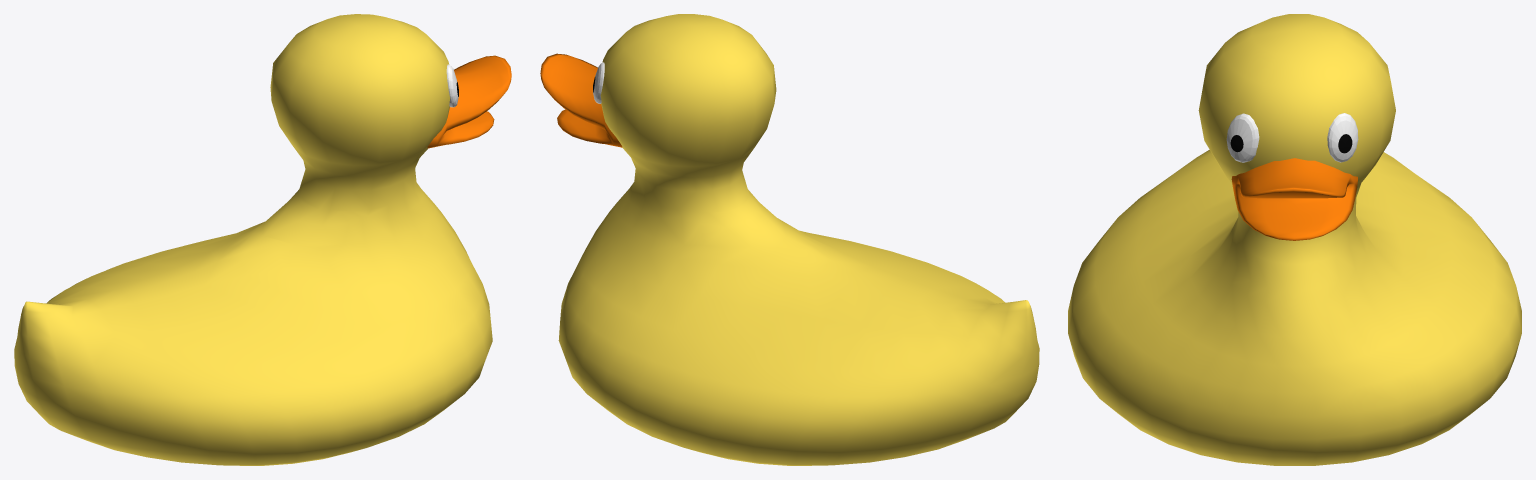
File: duck.fbx
3 views of the same model, side by side, from view 1: azimuth 30°, elevation 25°; view 2: azimuth 150°, elevation 25°; view 3: azimuth 270°, elevation 25° (orthographic). The views are drawn at different scales.
Visible parts, largest first — view 1: RubberDuck, Beak; view 2: RubberDuck, Beak; view 3: RubberDuck, Beak, LeftEye.001, LeftEye.
Part boxes in pixels (x1,y1,x2,y2): RubberDuck: (14,14,492,465); Beak: (427,55,511,148); RubberDuck: (558,14,1039,465); Beak: (540,53,622,147); RubberDuck: (1068,14,1521,465); Beak: (1231,158,1357,240); LeftEye.001: (1226,113,1259,162); LeftEye: (1327,113,1358,162).
Size of the model in its own units: 397 by 280 by 280.
